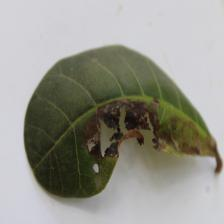leaf miner: (22, 43, 223, 199)
